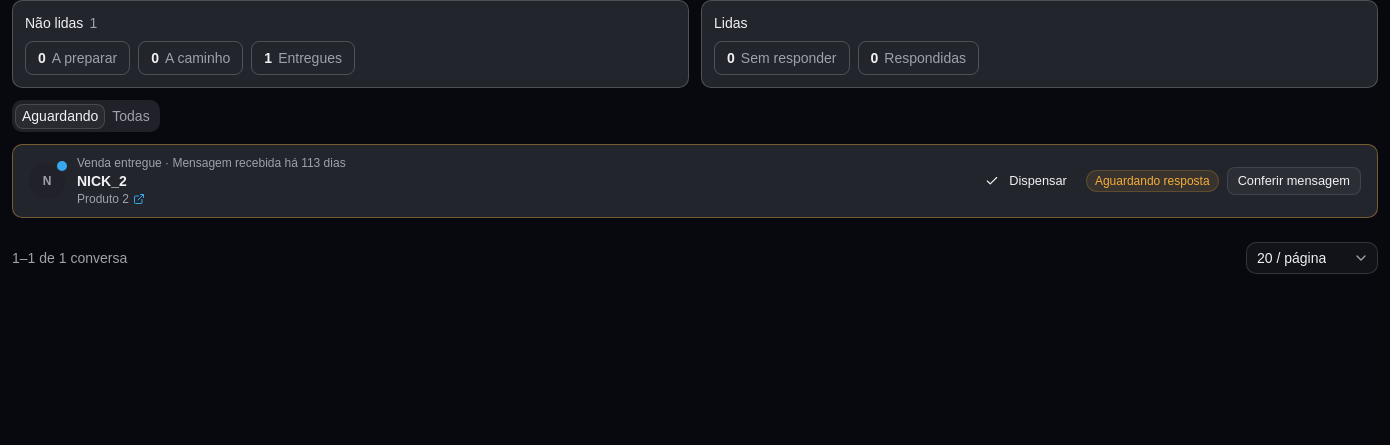
AbaMensagens: conversa aberta fica visível após o refetch que a reclassifica › Entregues → Conferir mensagem → marca lida → refetch move para Sem responder; o card segue aberto até Recolher
Click the button "1 Entregues". click: [303, 58]
box: [251,41,355,75]
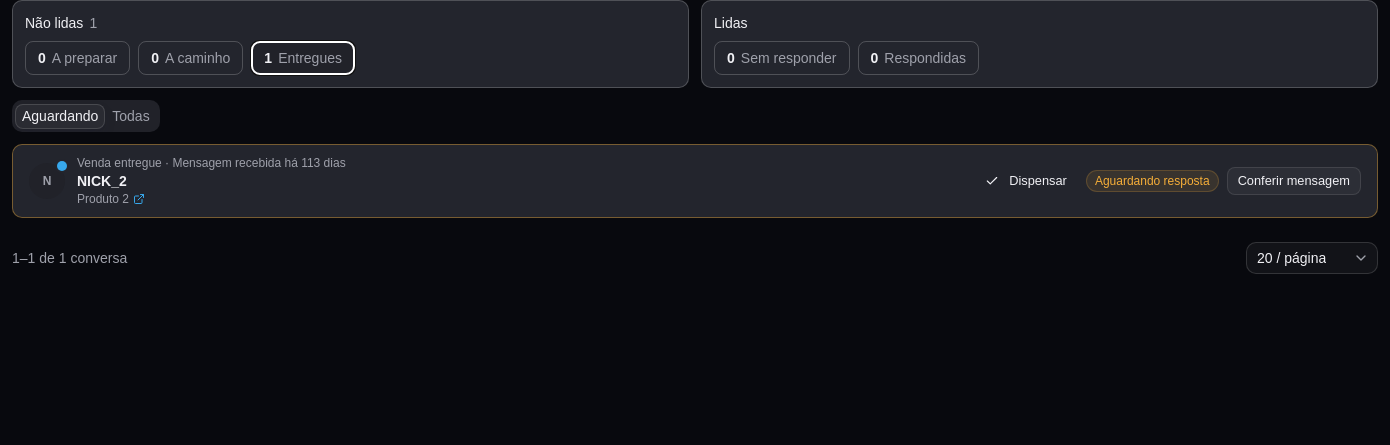
Click the button "Conferir mensagem". click: [1294, 181]
box: [1227,167,1361,195]
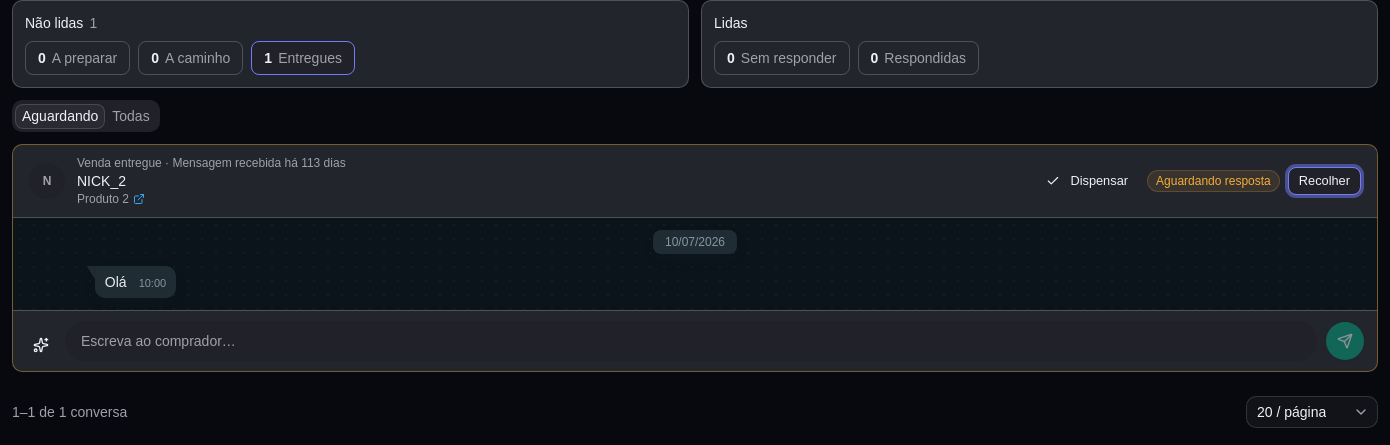
Expected: the element showing "10/07/2026 Olá 10:00" is shown, [13,218,1377,310]
Expected: the button "Recolher" is shown
Click the button "Recolher". click: [1324, 181]
box: [1288,167,1361,195]
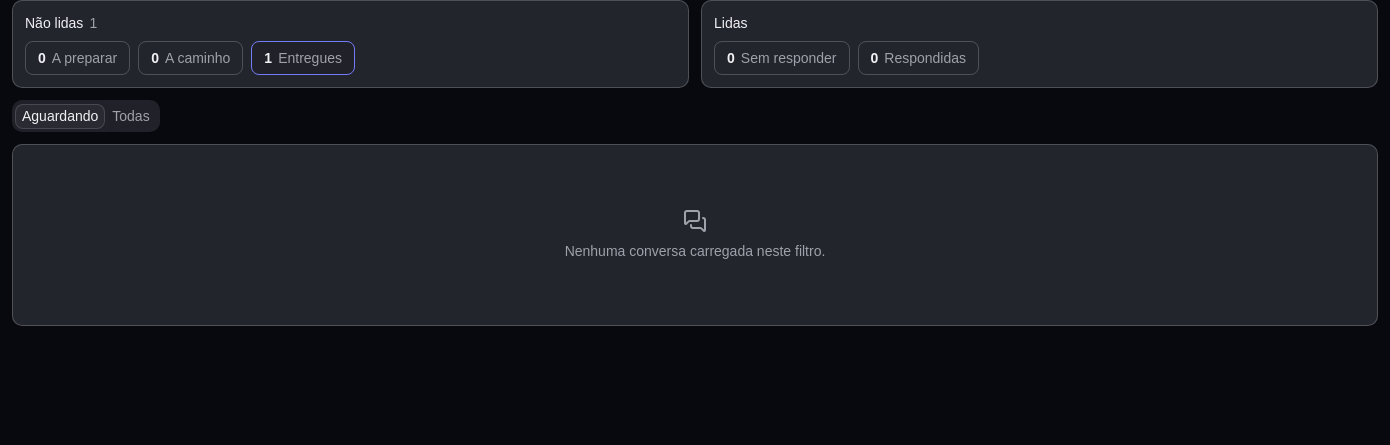
Expected: the text "Produto 2" is gone
